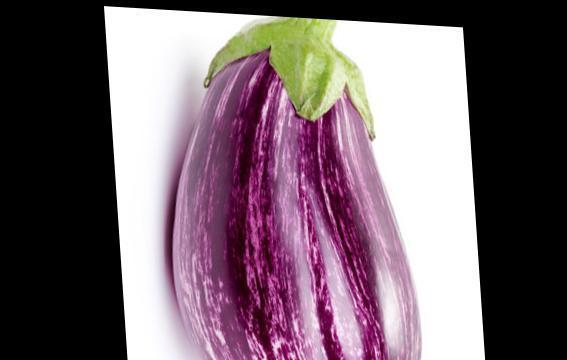eggplant: (157, 7, 408, 359)
